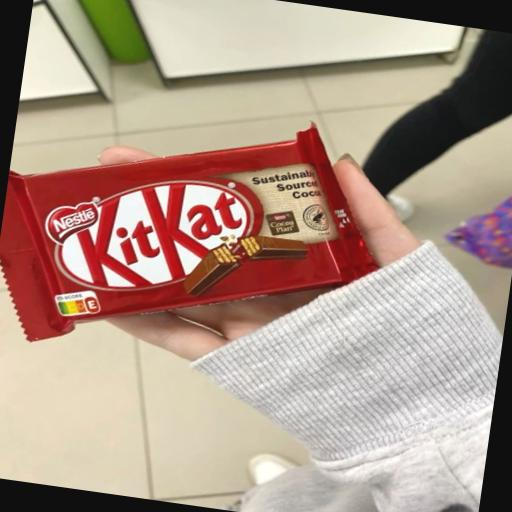kitkat: (0, 89, 445, 395)
